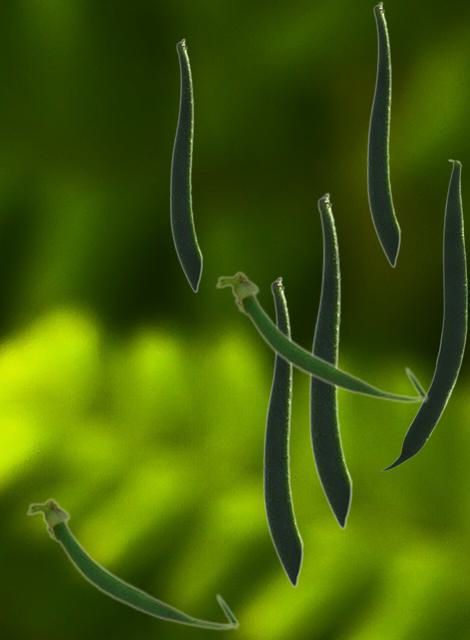french_bean: (25, 496, 239, 630), (214, 269, 428, 403), (380, 159, 466, 470), (308, 192, 352, 529), (262, 276, 303, 587), (366, 1, 400, 267), (169, 38, 202, 292)
